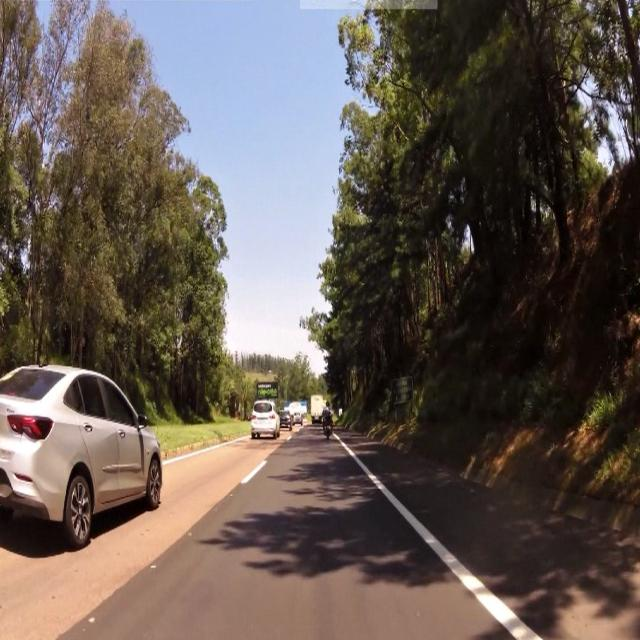I-4: (390, 381, 418, 409)
